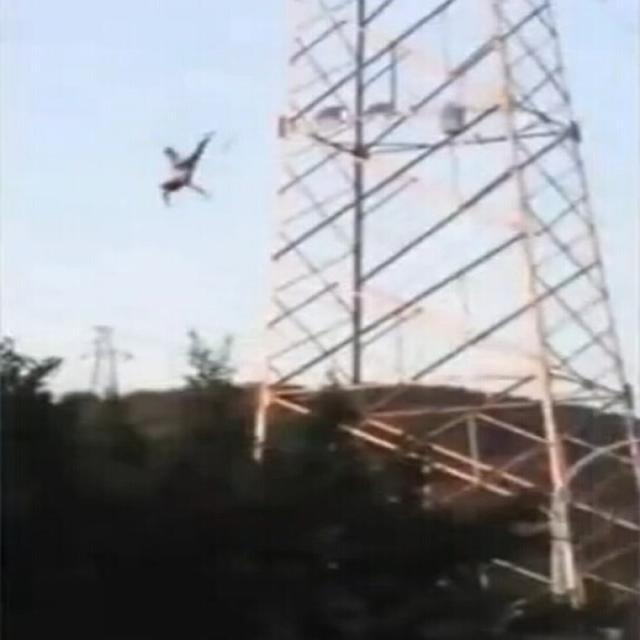non-critical vegetation: (249, 3, 624, 386)
utility poles: (124, 336, 325, 580)
